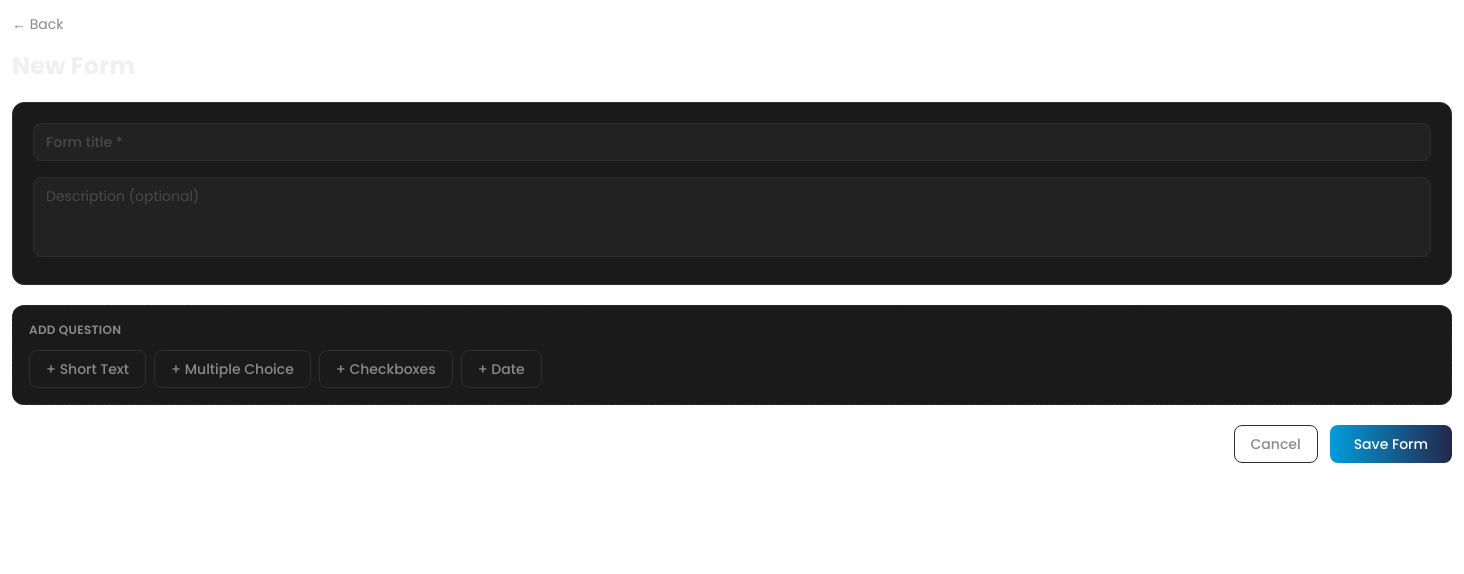
FormBuilderPage › validation › shows error when title is empty on save
Click the button "Save Form". click: point(1391, 444)
box: [1330,425,1452,463]
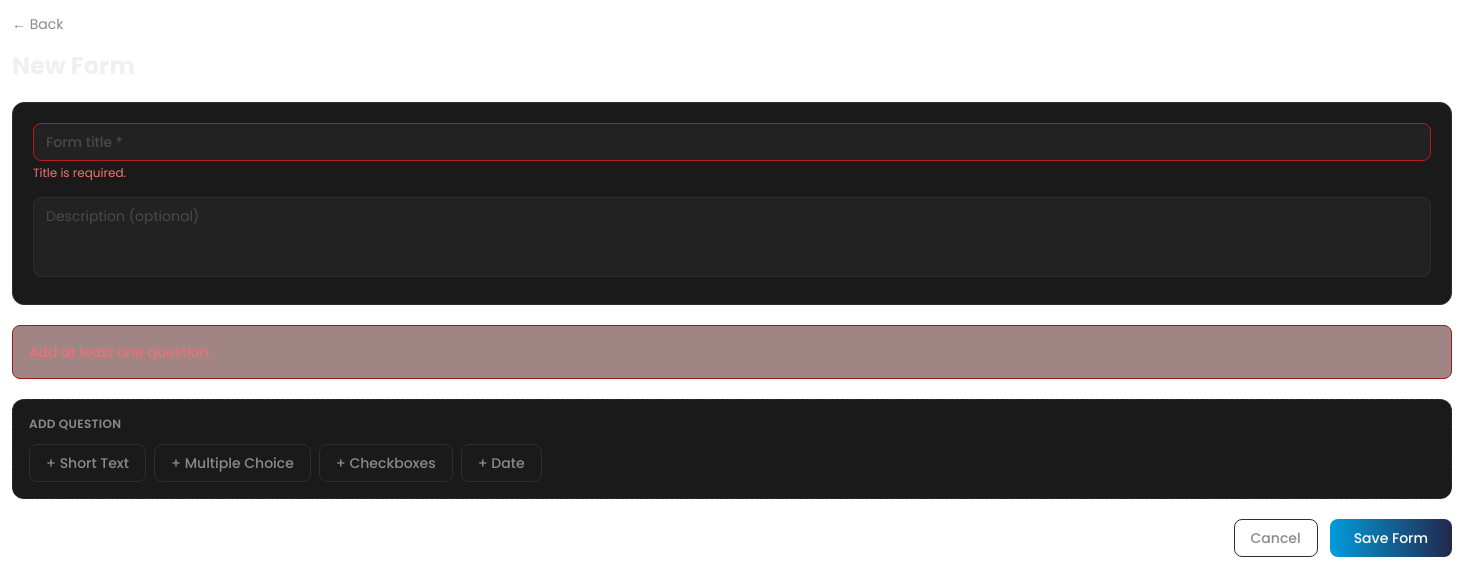
Now the text "Title is required." is shown, box [33,164,126,181]
